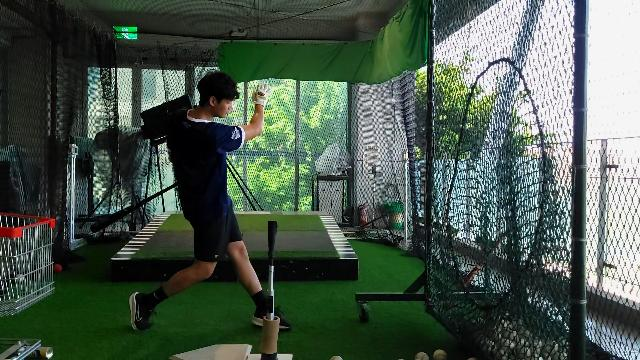bat: (89, 182, 178, 234)
